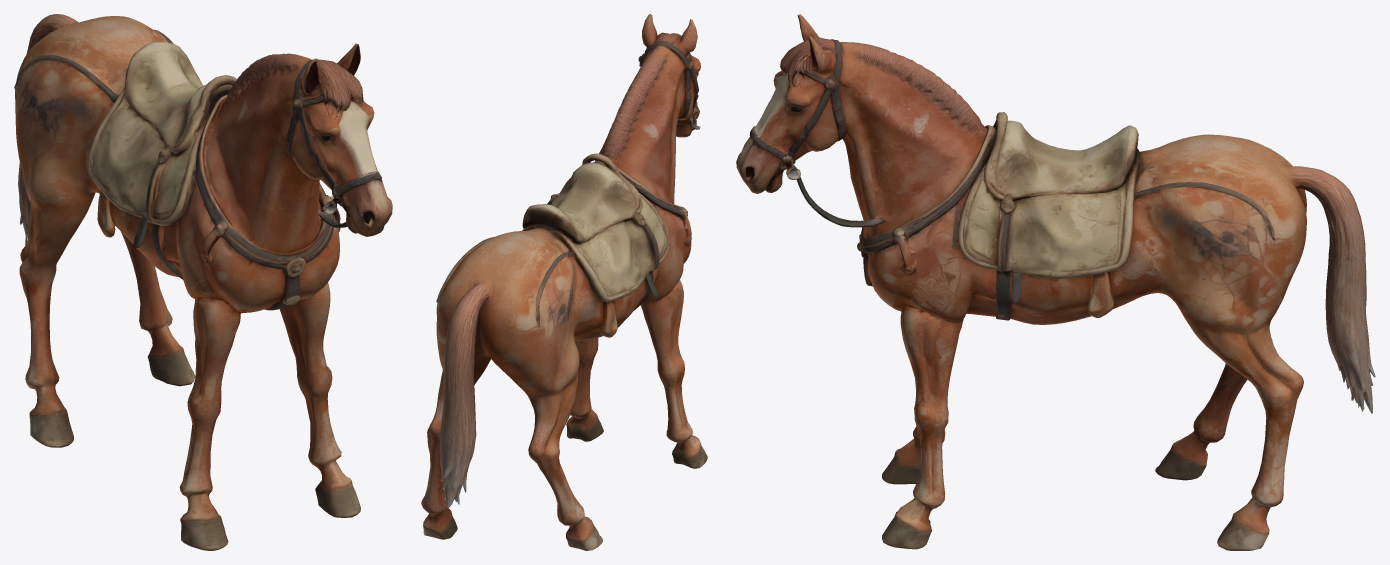
The model's file is asset-mural-horse.glb.
3 views of the same model, side by side, from view 1: azimuth 30°, elevation 25°; view 2: azimuth 150°, elevation 25°; view 3: azimuth 270°, elevation 25° (orthographic). The views are drawn at different scales.
Parts seen in each view (by area): view 1: tripo_node_02cabe4c-1356-4e5b-b0a3-88c10da4669b; view 2: tripo_node_02cabe4c-1356-4e5b-b0a3-88c10da4669b; view 3: tripo_node_02cabe4c-1356-4e5b-b0a3-88c10da4669b.
Boxes of the visible parts, x1,y1,x2,y2 form: tripo_node_02cabe4c-1356-4e5b-b0a3-88c10da4669b: (14, 14, 392, 550); tripo_node_02cabe4c-1356-4e5b-b0a3-88c10da4669b: (421, 14, 707, 550); tripo_node_02cabe4c-1356-4e5b-b0a3-88c10da4669b: (736, 14, 1375, 550).
Bounding box in the file's own units: 0.3243 × 0.8479 × 1.
1 material, 1 textured.
